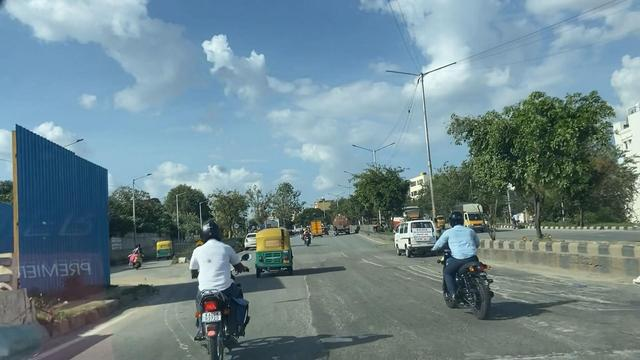RoadDamages: (491, 269, 606, 322), (273, 282, 327, 353), (391, 254, 444, 290)
